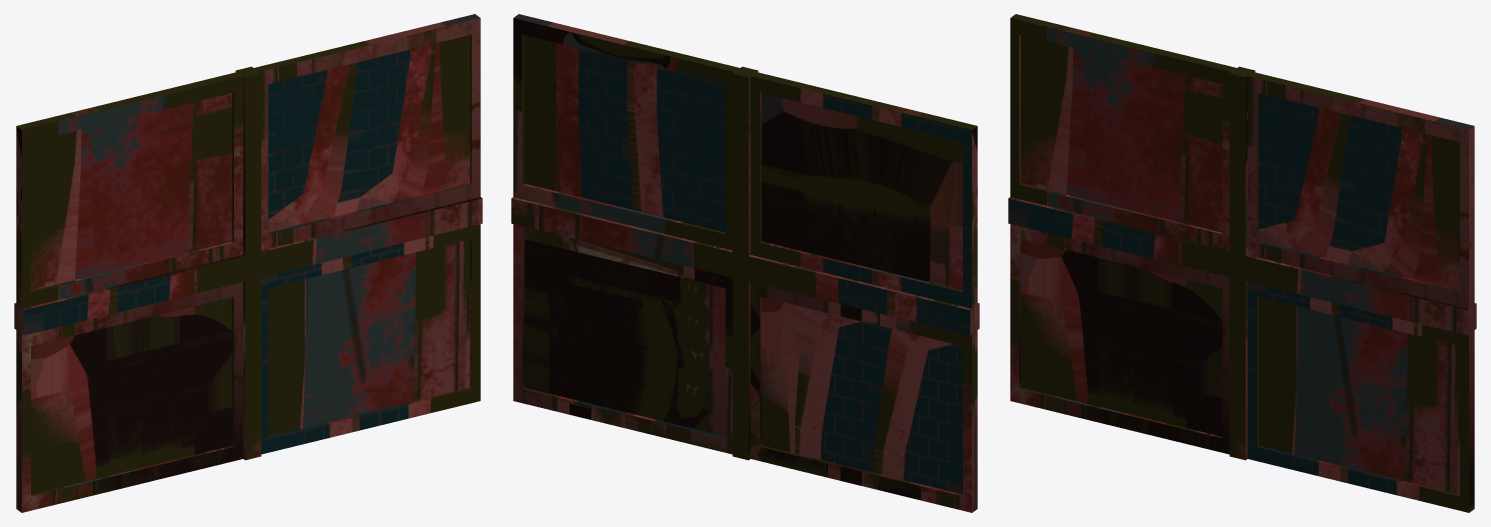
Rendered from Janela PAREDE 2M.fbx.
3 renders of one model, left to right at view 1: azimuth 30°, elevation 25°; view 2: azimuth 150°, elevation 25°; view 3: azimuth 330°, elevation 25°, orthographic.
Visible parts, largest first — view 1: Cube.029; view 2: Cube.029; view 3: Cube.029.
Boxes of the visible parts, x1,y1,x2,y2 form: Cube.029: [14, 14, 482, 512]; Cube.029: [511, 14, 979, 512]; Cube.029: [1008, 14, 1476, 512].
Size of the model in its own units: 131 by 104 by 4.67.
